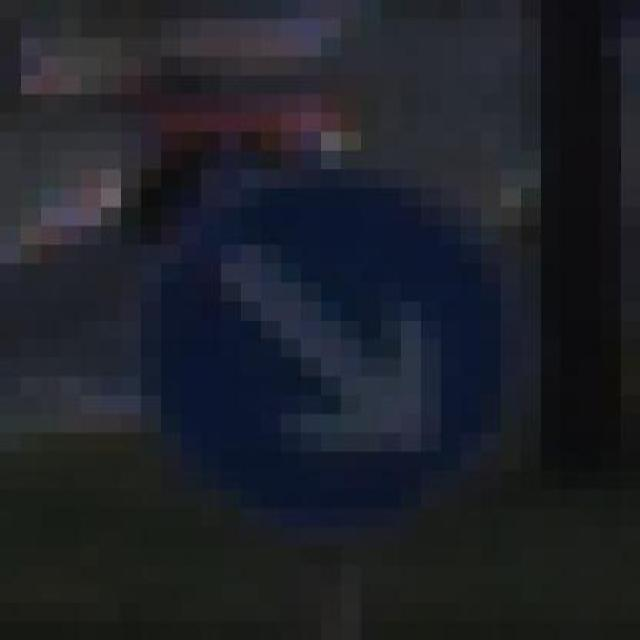Keep-Right: (120, 131, 540, 527)
